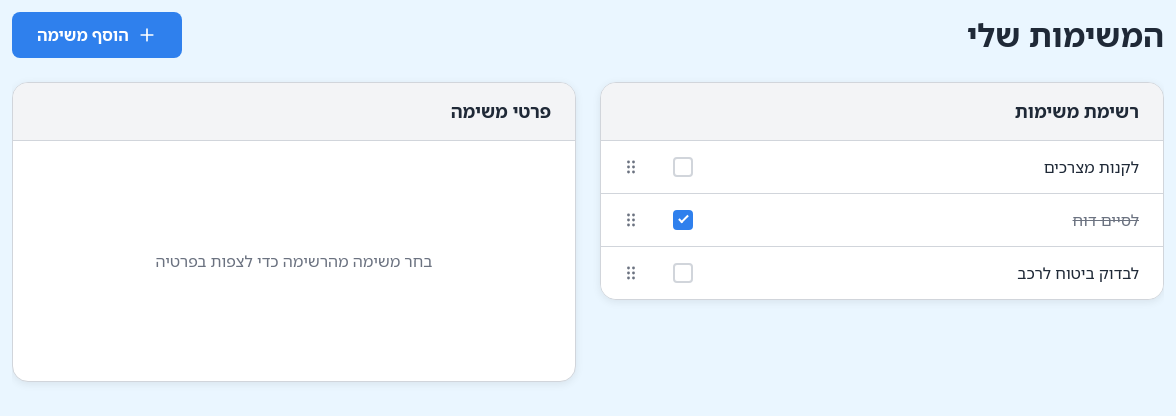
Test: HomePage – completion status › a failed save rolls back only that checkbox and shows a message
Click the checkbox named "לקנות מצרכים": click(683, 167) 673,157 -> 693,177
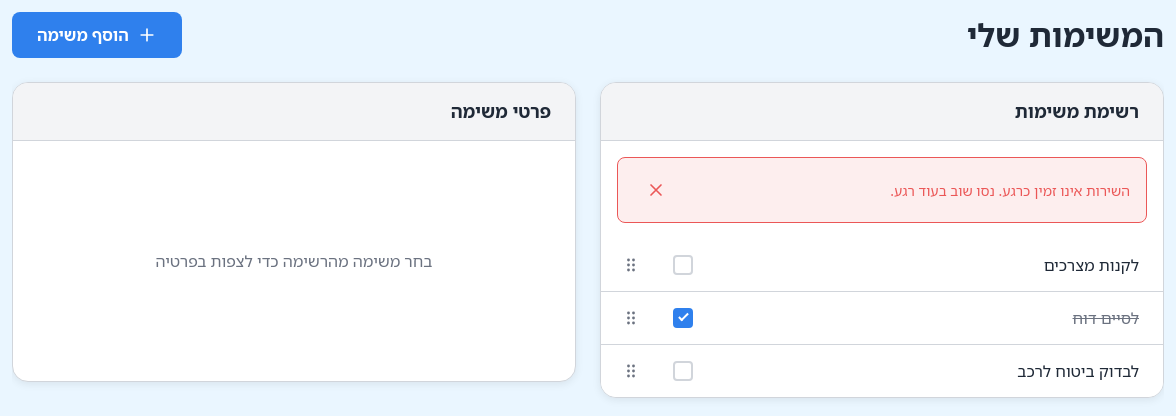
Expected: the checkbox named "לקנות מצרכים" is not checked, 673,255 -> 693,275
Expected: the message shows "השירות אינו זמין כרגע", 890,181 -> 1130,200
